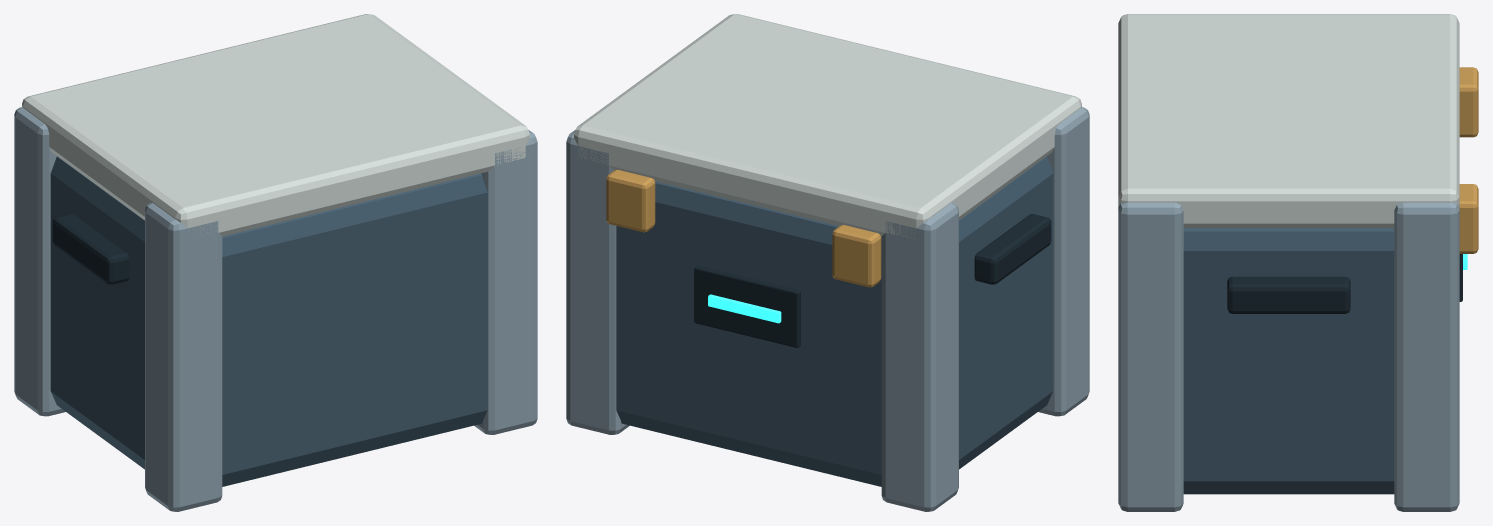
Rendered from cargo_crate.glb.
3 views of the same model, side by side, from view 1: azimuth 30°, elevation 25°; view 2: azimuth 150°, elevation 25°; view 3: azimuth 270°, elevation 25° (orthographic). The views are drawn at different scales.
Parts seen in each view (by area): view 1: Geometry_cargo_crate, Lid; view 2: Geometry_cargo_crate, Lid; view 3: Geometry_cargo_crate, Lid.
Boxes of the visible parts, left/top/right/bottom form: Geometry_cargo_crate: left=14, top=107, right=537, bottom=511; Lid: left=22, top=14, right=529, bottom=236; Geometry_cargo_crate: left=566, top=107, right=1089, bottom=511; Lid: left=574, top=14, right=1081, bottom=239; Geometry_cargo_crate: left=1118, top=67, right=1478, bottom=511; Lid: left=1118, top=14, right=1459, bottom=228.
Bounding box in the file's own units: 1.32 × 0.97 × 0.9925.
